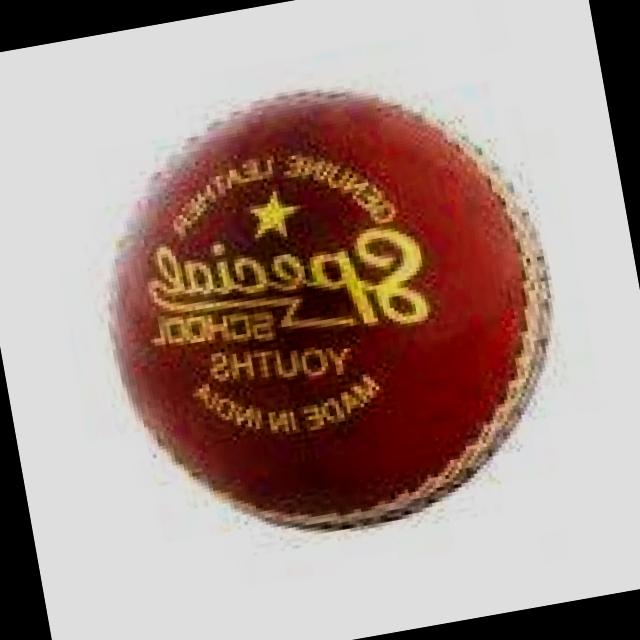ball: (52, 43, 595, 573)
